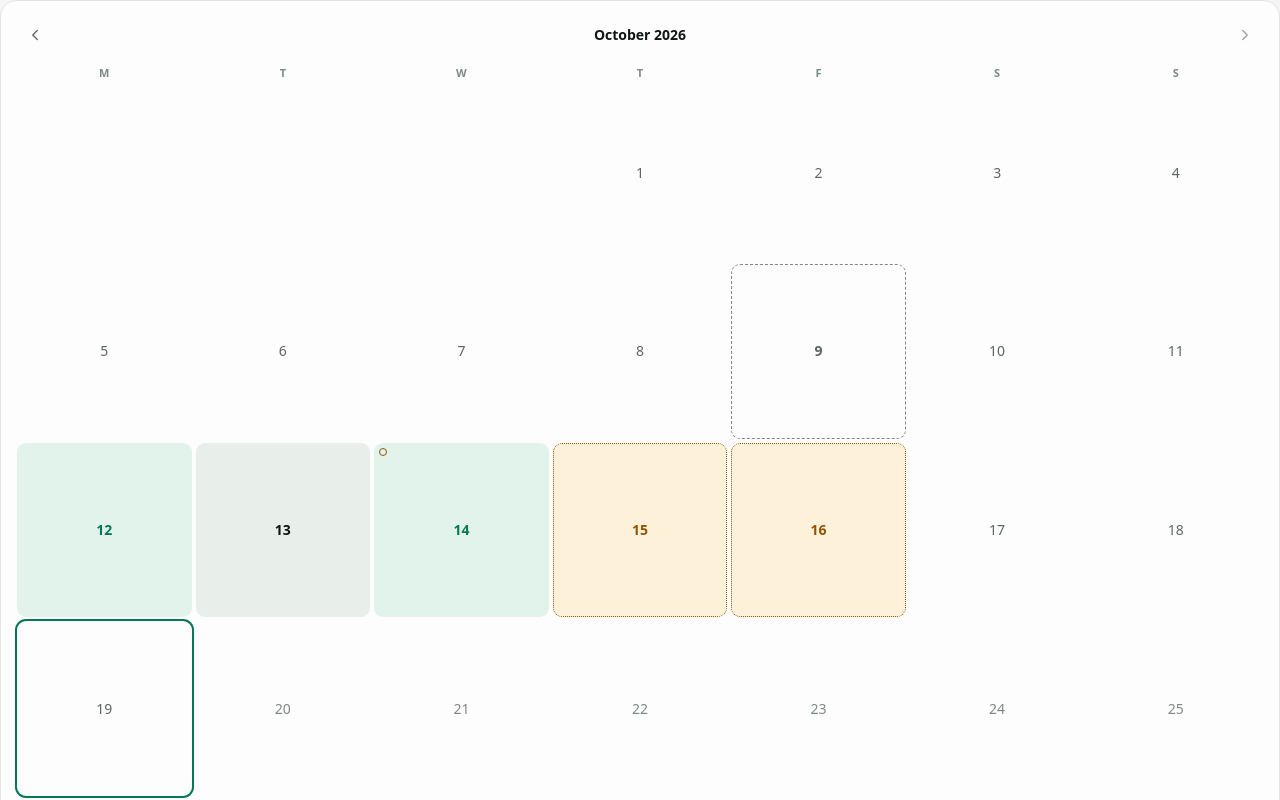
Test: MonthTab month navigation › steps back to the month before and forward again
Click the button named "Previous month": (35, 35) [17, 17, 53, 53]
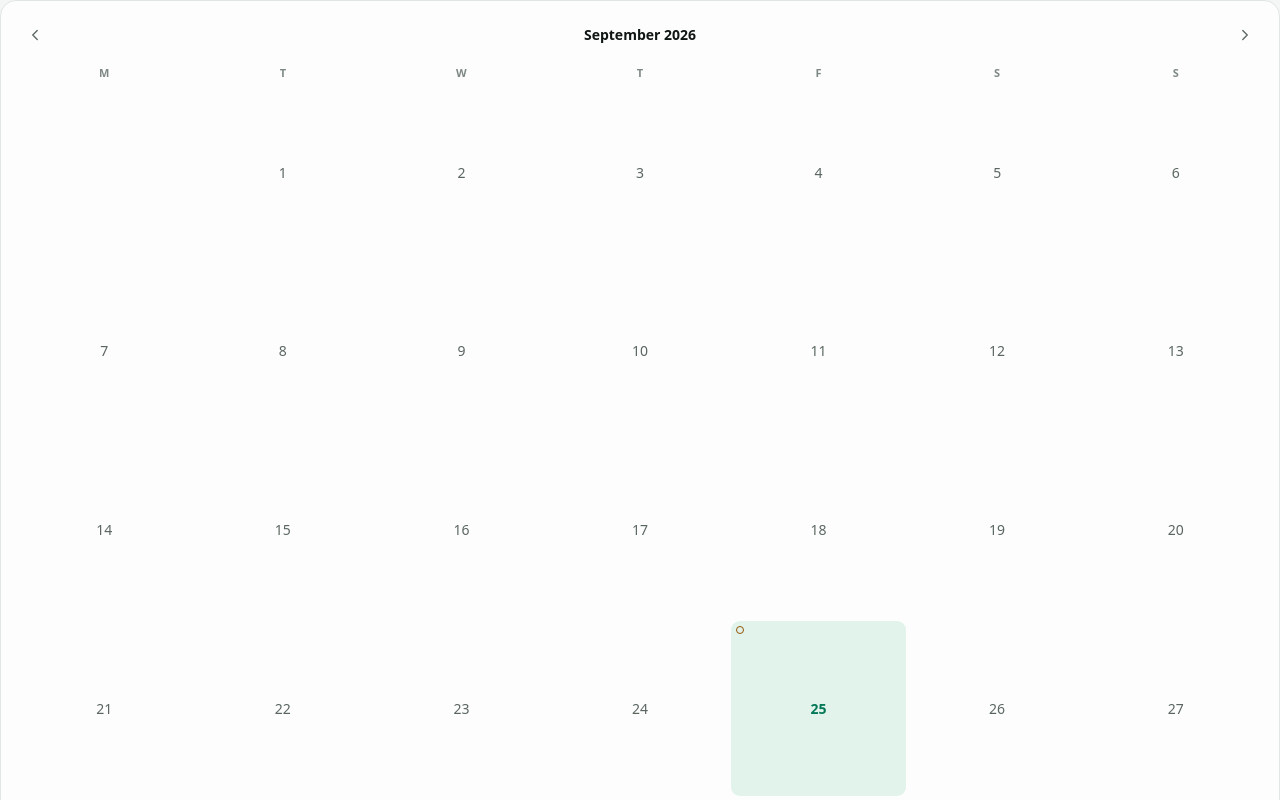
Now the heading "September 2026" is shown, box [584, 25, 696, 45]
Now the heading "October 2026" is gone
Now the button named "Fri 25 Sep, home, finish not confirmed" is shown, box [731, 621, 906, 796]
Click the button named "Next month": (1245, 35) [1227, 17, 1263, 53]
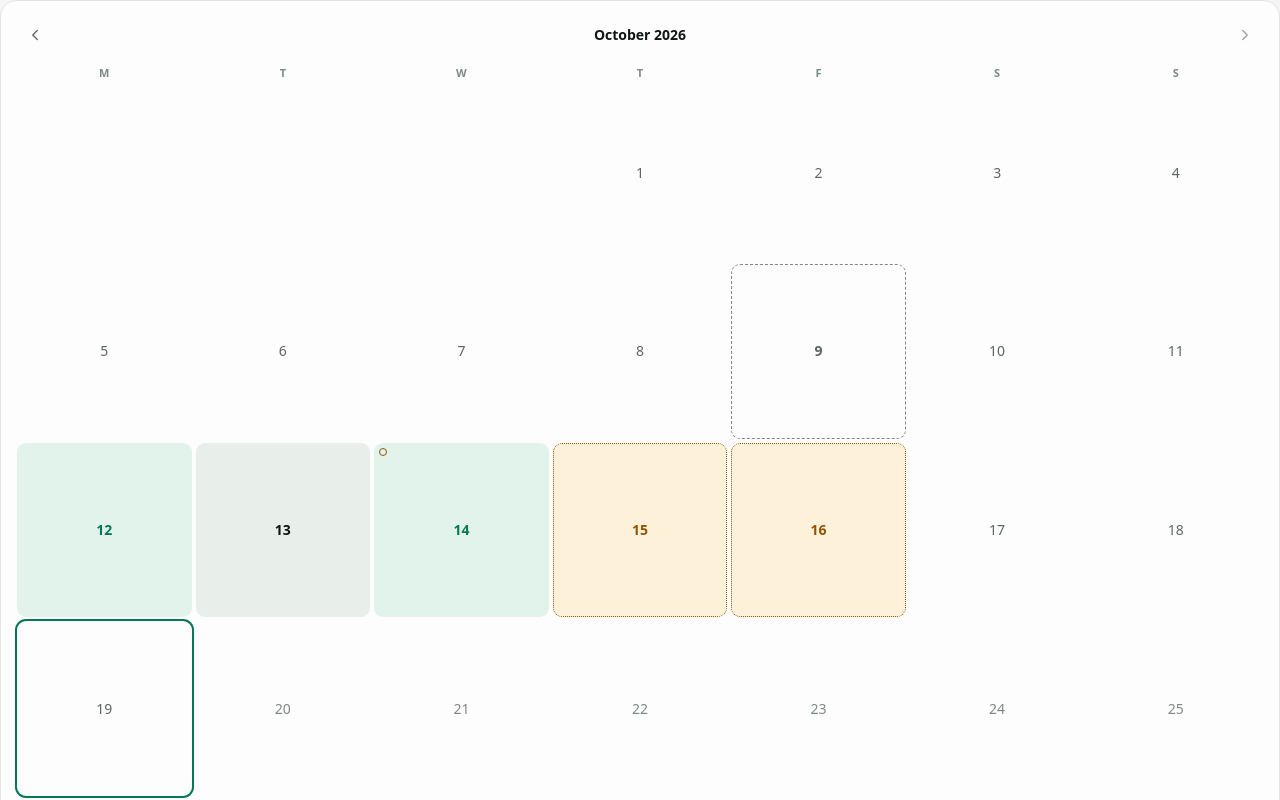
Now the heading "October 2026" is shown, box [594, 25, 686, 45]
Now the button named "Mon 12 Oct, home" is shown, box [17, 443, 192, 617]
